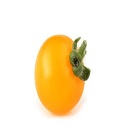tomato: (35, 34, 87, 115)
